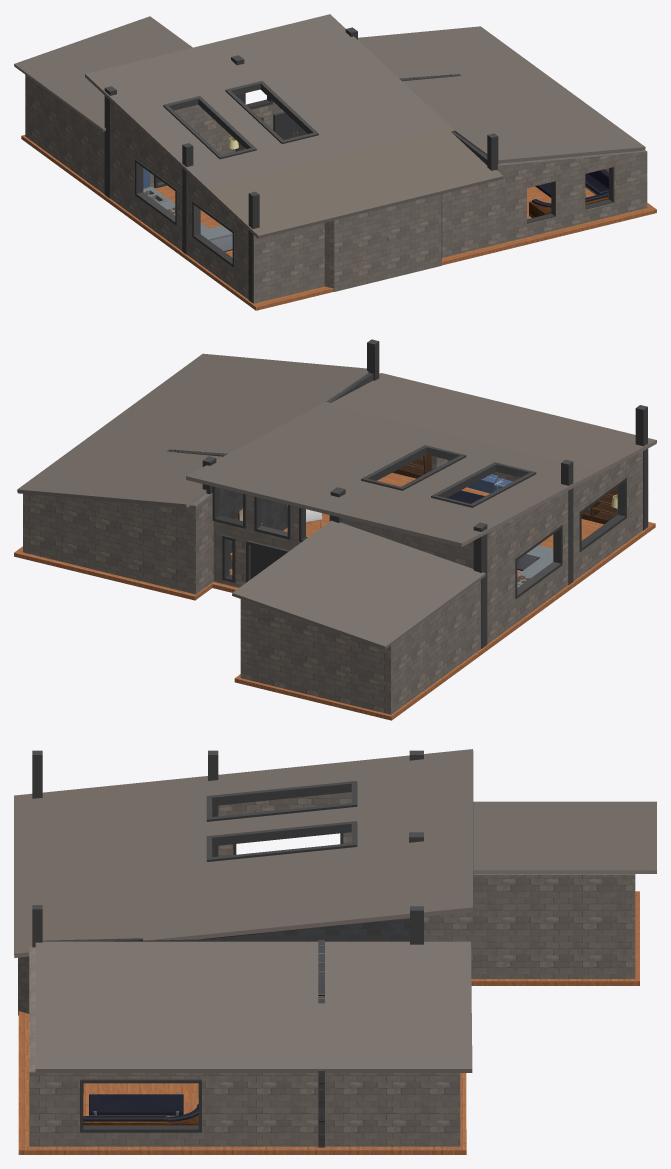
File: Area_House.glb
The picture shows the model from 3 angles, top to bottom: view 1: azimuth 30°, elevation 25°; view 2: azimuth 150°, elevation 25°; view 3: azimuth 270°, elevation 25°; orthographic projection. The views are drawn at different scales.
Visible parts, largest first — view 1: ceiling, ceiling.008, ceiling.005, ceiling.004, ceiling.001, ceiling.031, ceiling.032, ceiling.007, ceiling.044, ceiling.043, ceiling.039, ceiling.041 (+3 smaller); view 2: ceiling.008, ceiling, ceiling.005, ceiling.004, ceiling.001, ceiling.002, ceiling.003, ceiling.007, ceiling.031, ceiling.032, ceiling.039, ceiling.043 (+9 smaller); view 3: ceiling, ceiling.005, ceiling.008, ceiling.004, ceiling.001, ceiling.003, ceiling.031, ceiling.032, SM_Table003.002, ceiling.023, ceiling.009, SM_Sofa002.002.
Boxes of the visible parts, bbox=[...] form: ceiling: bbox=[85, 14, 503, 238]; ceiling.008: bbox=[25, 75, 647, 303]; ceiling.005: bbox=[358, 26, 645, 163]; ceiling.004: bbox=[14, 16, 192, 131]; ceiling.001: bbox=[21, 135, 656, 310]; ceiling.031: bbox=[163, 96, 256, 159]; ceiling.032: bbox=[225, 81, 318, 144]; ceiling.007: bbox=[150, 104, 235, 187]; ceiling.044: bbox=[192, 201, 234, 267]; ceiling.043: bbox=[135, 159, 177, 225]; ceiling.039: bbox=[104, 86, 116, 198]; ceiling.041: bbox=[248, 191, 259, 302]; ceiling.008: bbox=[23, 448, 648, 714]; ceiling: bbox=[186, 373, 656, 546]; ceiling.005: bbox=[17, 353, 368, 507]; ceiling.004: bbox=[232, 520, 485, 649]; ceiling.001: bbox=[14, 472, 655, 720]; ceiling.002: bbox=[213, 494, 300, 587]; ceiling.003: bbox=[219, 373, 373, 569]; ceiling.007: bbox=[341, 518, 473, 568]; ceiling.031: bbox=[431, 462, 536, 507]; ceiling.032: bbox=[361, 445, 466, 490]; ceiling.039: bbox=[473, 522, 487, 648]; ceiling.043: bbox=[515, 524, 562, 599]; ceiling: bbox=[14, 749, 473, 957]; ceiling.005: bbox=[35, 941, 472, 1072]; ceiling.008: bbox=[18, 792, 635, 1146]; ceiling.004: bbox=[473, 801, 656, 873]; ceiling.001: bbox=[18, 891, 639, 1154]; ceiling.003: bbox=[42, 918, 409, 941]; ceiling.031: bbox=[206, 781, 357, 821]; ceiling.032: bbox=[206, 821, 357, 861]; SM_Table003.002: bbox=[89, 1093, 183, 1116]; ceiling.023: bbox=[80, 1079, 201, 1132]; ceiling.009: bbox=[318, 940, 324, 1147]; SM_Sofa002.002: bbox=[83, 1116, 167, 1125].
Bounding box in the file's own units: 29.19 × 7.82 × 30.54.
Materials: 21 (21 with a texture image).
